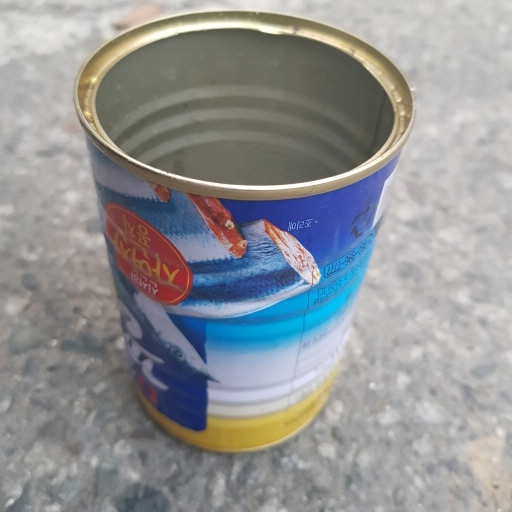Metal_1: (68, 8, 418, 453)
